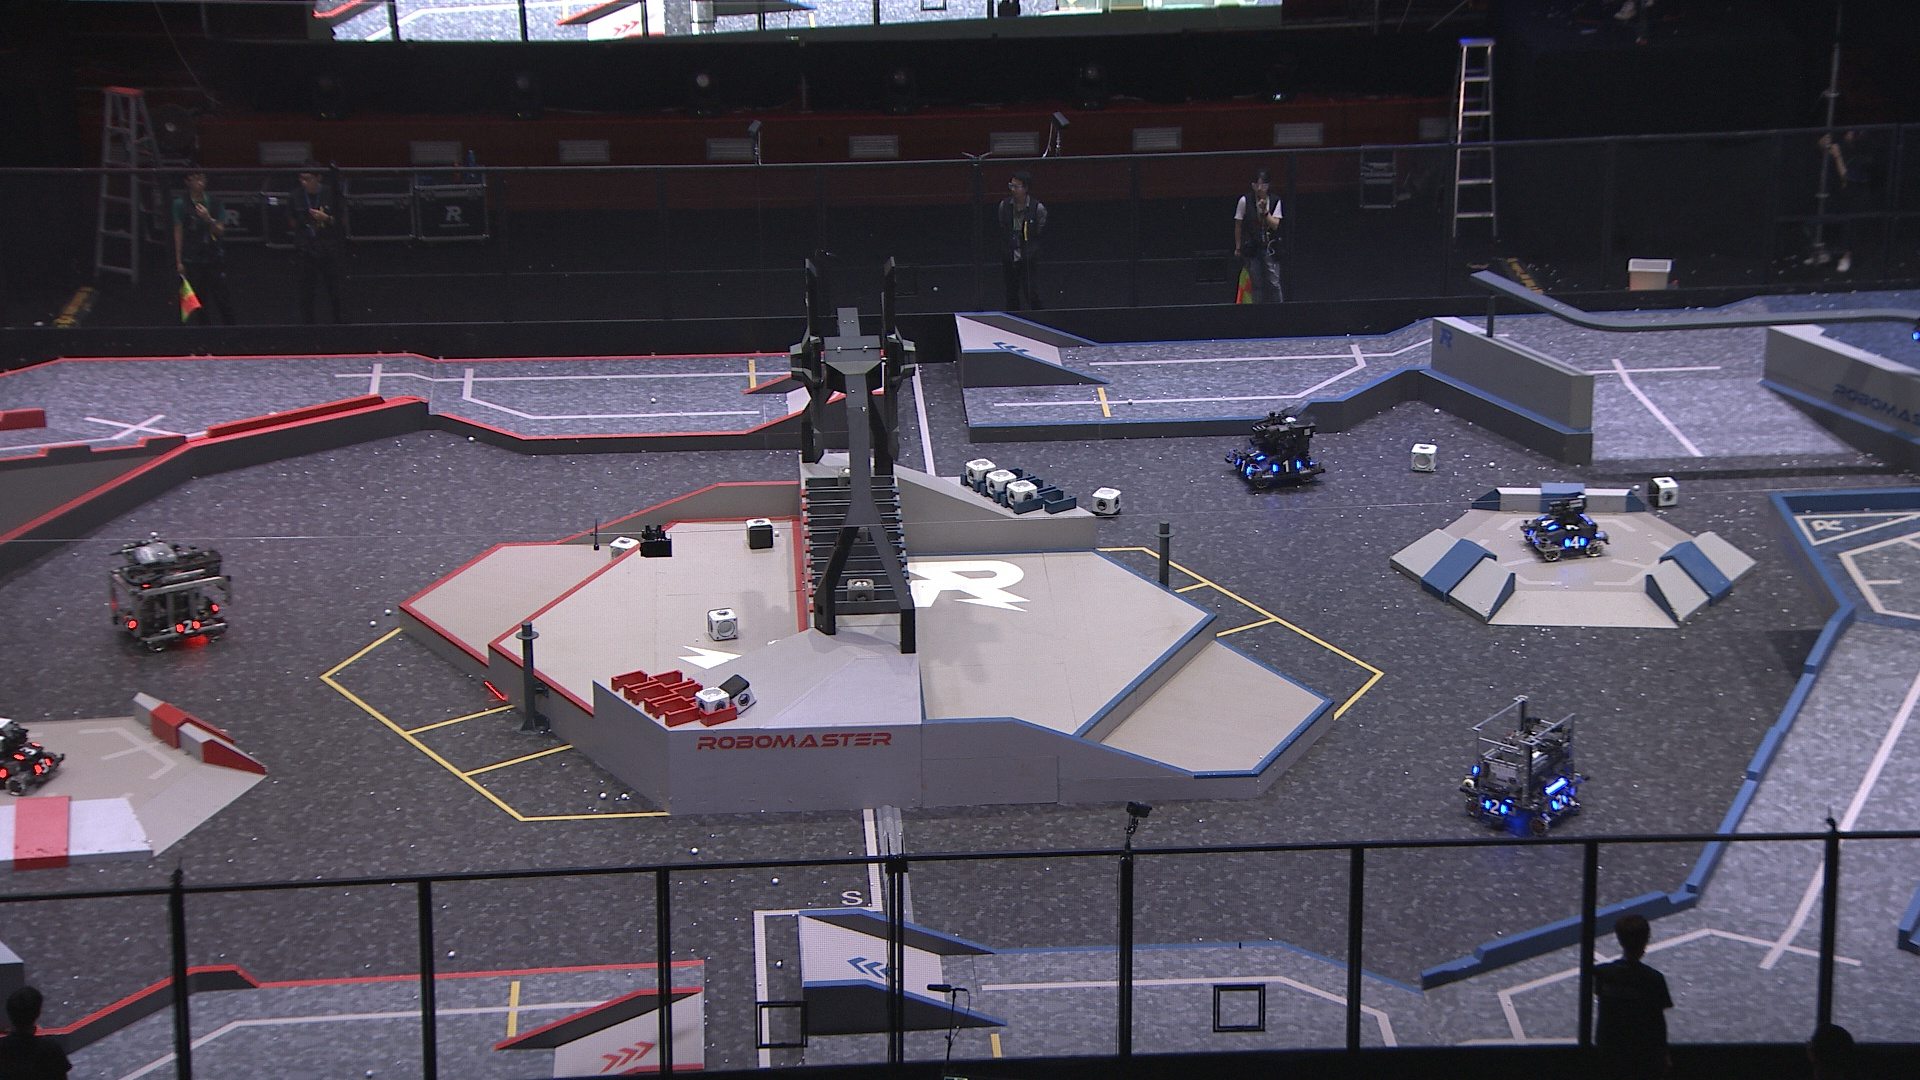armor: (8, 738, 40, 761), (175, 615, 204, 637), (1548, 789, 1571, 815), (30, 756, 54, 778), (1482, 796, 1509, 816), (1560, 534, 1588, 553), (1273, 458, 1302, 475), (1233, 455, 1254, 477), (117, 611, 140, 632), (1523, 524, 1542, 547), (1536, 513, 1557, 533), (1247, 444, 1267, 462)
car: (1458, 695, 1586, 833), (103, 531, 229, 655), (1225, 407, 1328, 493), (1518, 493, 1607, 564)
